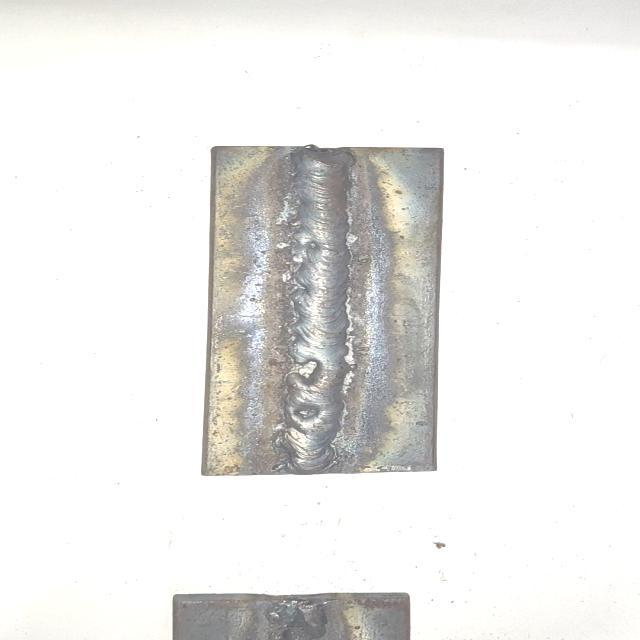Defect: (266, 348, 370, 394), (264, 602, 335, 640)
Welding Line: (284, 152, 354, 470)
Workpiece: (196, 140, 452, 480), (162, 588, 417, 640)
